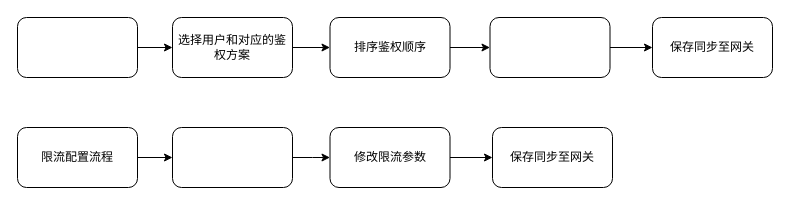
Some shapes in this 790 by 205 pixel diagram are drawn without their labels. Each missing label, with the box of its shape:
修改鉴权参数: (489, 16, 610, 78)
选择用户和对应的限流方案: (172, 126, 292, 188)
鉴权配置流程: (16, 16, 138, 78)
